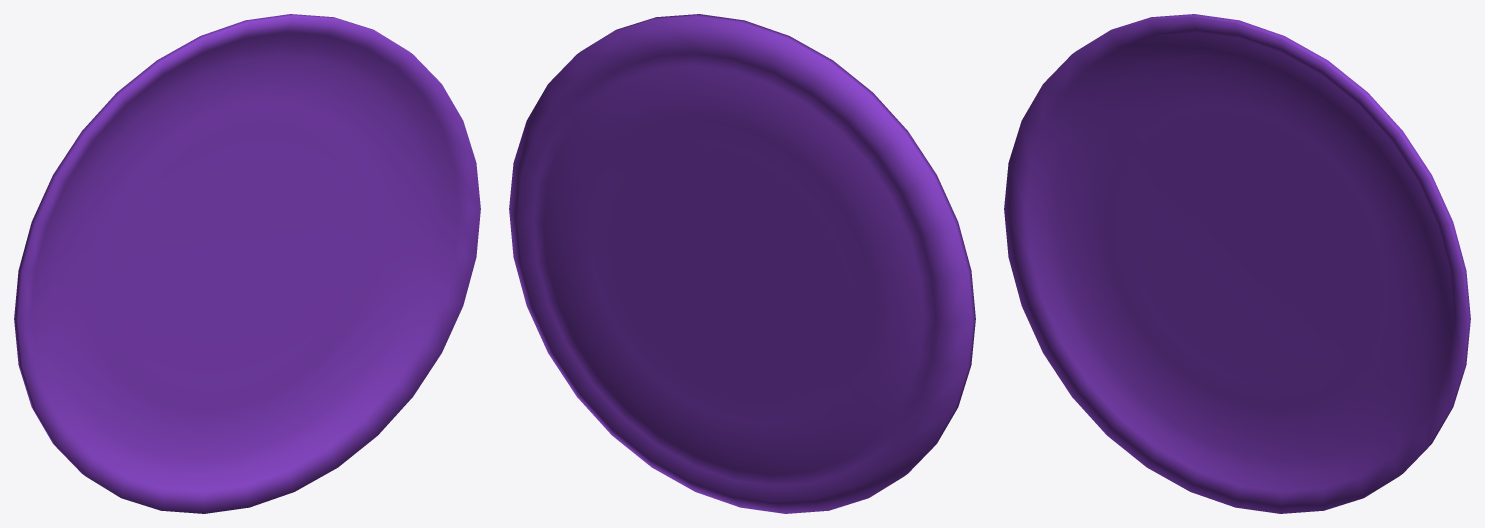
The picture shows the model from 3 angles, left to right: view 1: azimuth 30°, elevation 25°; view 2: azimuth 150°, elevation 25°; view 3: azimuth 330°, elevation 25°; orthographic projection.
Parts seen in each view (by area): view 1: model_normalized_0; view 2: model_normalized_0; view 3: model_normalized_0.
Part boxes in pixels (left/top/right/bottom): model_normalized_0: left=14, top=14, right=480, bottom=513; model_normalized_0: left=509, top=14, right=975, bottom=513; model_normalized_0: left=1004, top=14, right=1470, bottom=513.
Size of the model in its own units: 1 by 1 by 0.0518.
